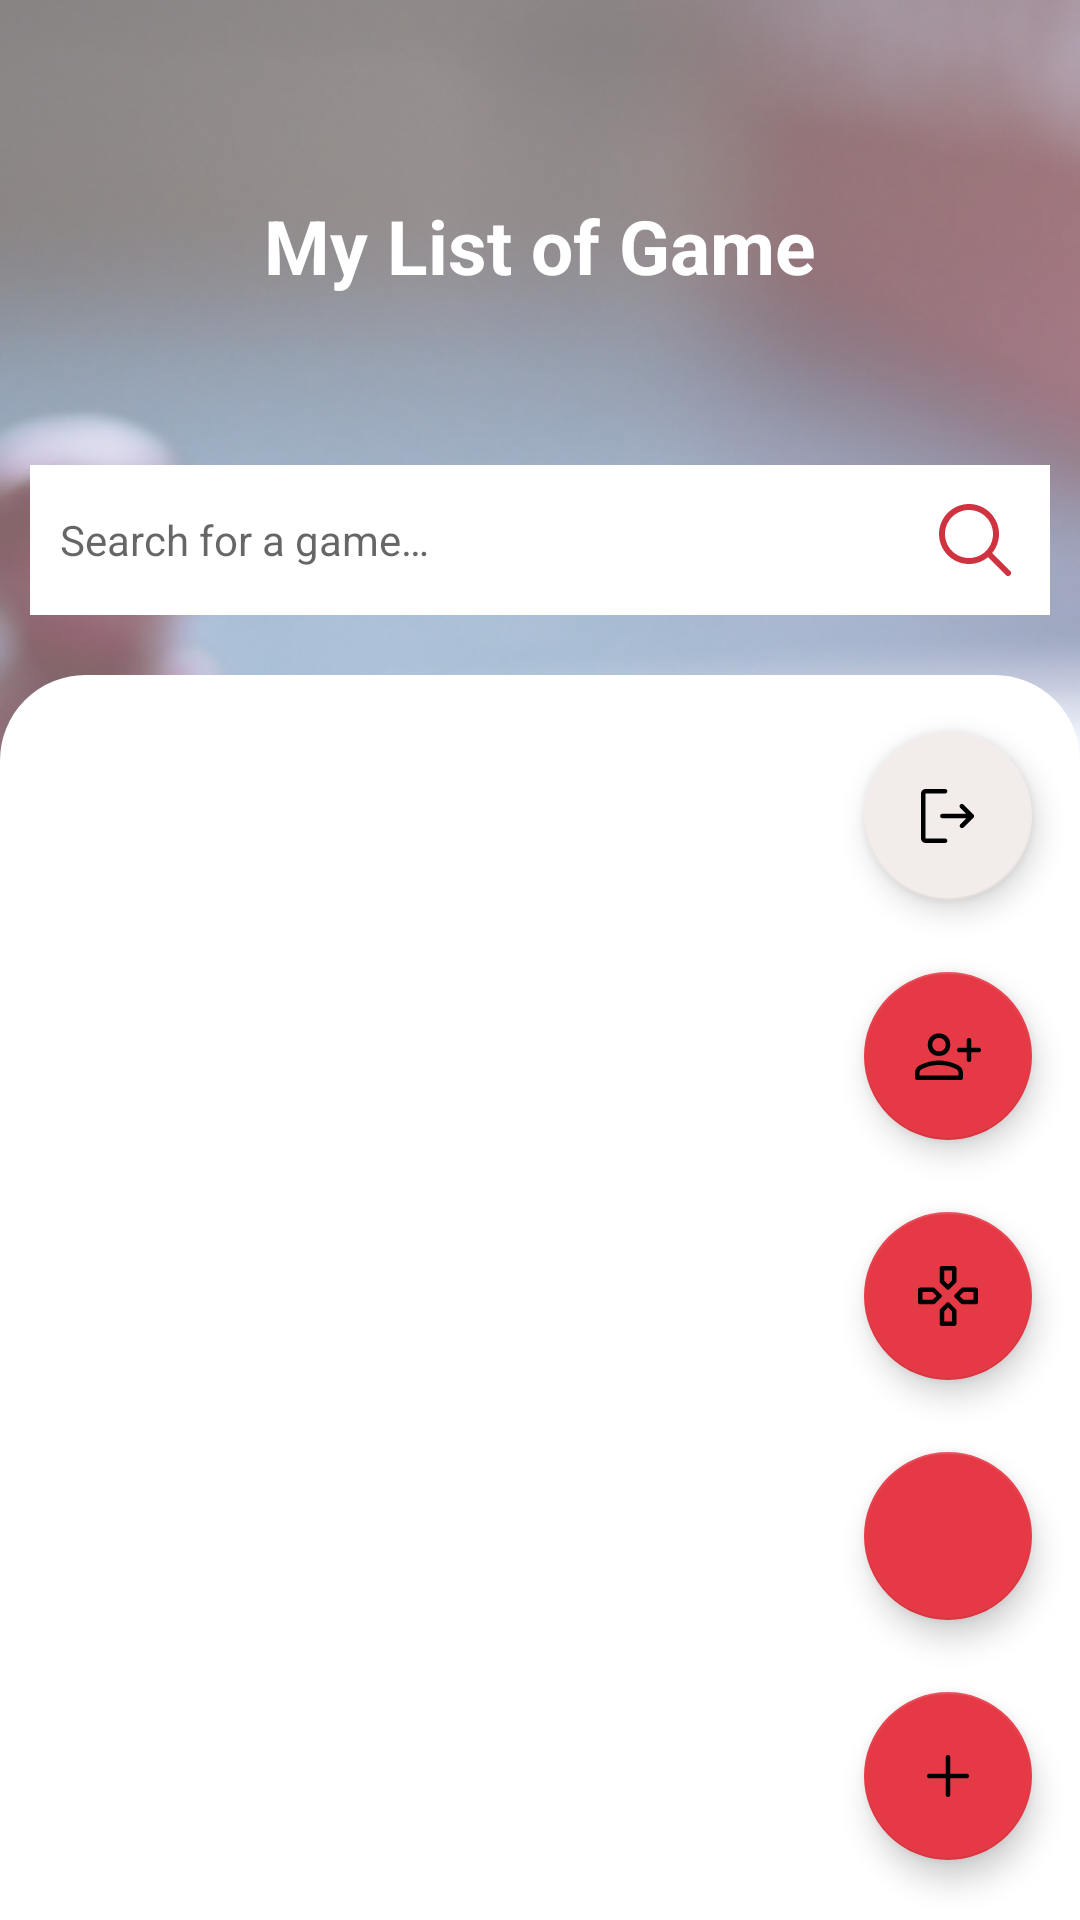

Point at icon controls on the screen. Image size 1080x1920, points as (x,y).
add plus: (948,1776)
gamepad: (948,1296)
person add: (948,1056)
